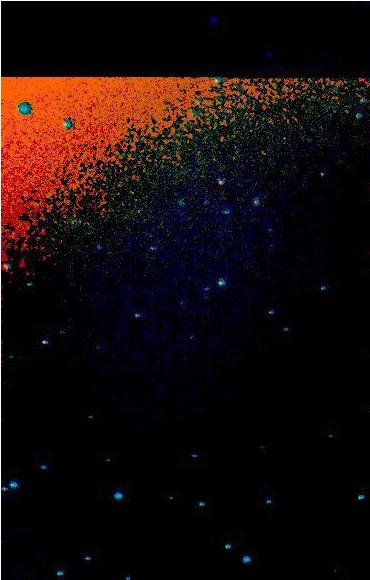star: (93, 443, 123, 473)
